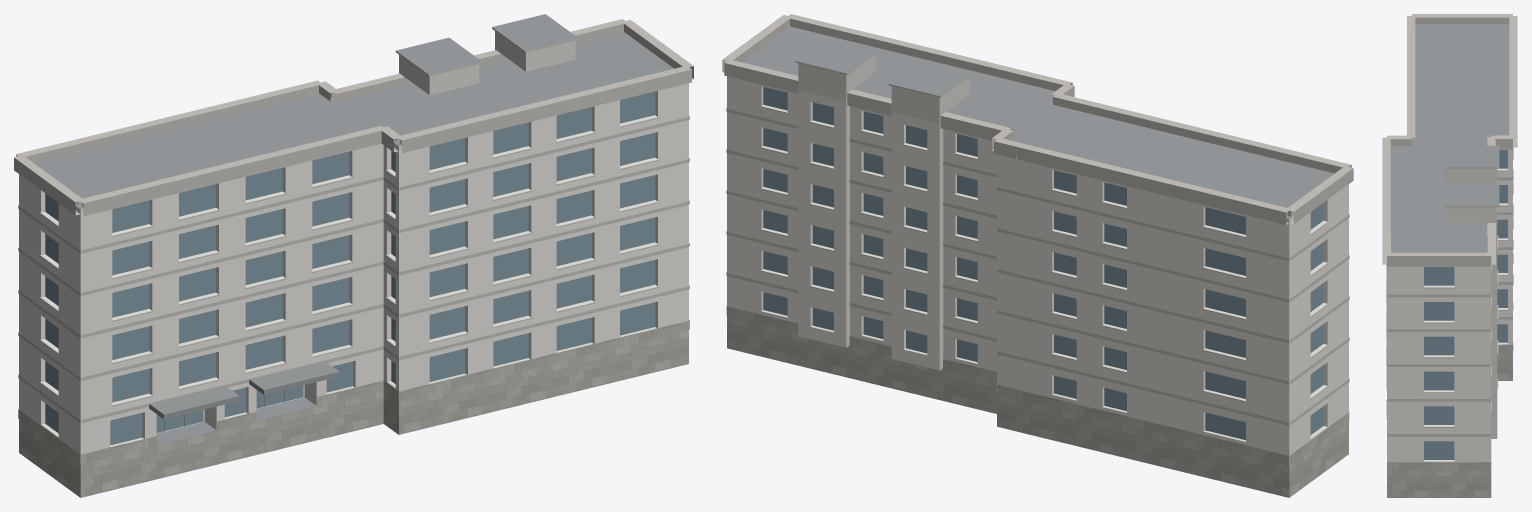
3 views of the same model, side by side, from view 1: azimuth 30°, elevation 25°; view 2: azimuth 150°, elevation 25°; view 3: azimuth 270°, elevation 25° (orthographic). The views are drawn at different scales.
Parts seen in each view (by area): view 1: yejiGwanW5_1__wall, yejiGwanW5_1__glass, yejiGwanW5_1__trim, yejiGwanW5_1__roof, yejiGwanW5_1__base, yejiGwanW5_1__canopy, yejiGwanW5_1__wall2; view 2: yejiGwanW5_1__wall, yejiGwanW5_1__trim, yejiGwanW5_1__base, yejiGwanW5_1__roof, yejiGwanW5_1__glass, yejiGwanW5_1__wall2; view 3: yejiGwanW5_1__roof, yejiGwanW5_1__wall, yejiGwanW5_1__trim, yejiGwanW5_1__glass, yejiGwanW5_1__base, yejiGwanW5_1__wall2.
Part boxes in pixels (x1,y1,x2,y2): yejiGwanW5_1__wall: (19,83,688,463); yejiGwanW5_1__glass: (45,91,655,445); yejiGwanW5_1__trim: (14,19,693,423); yejiGwanW5_1__roof: (34,14,673,444); yejiGwanW5_1__base: (18,320,689,497); yejiGwanW5_1__canopy: (149,361,339,419); yejiGwanW5_1__wall2: (399,31,575,95); yejiGwanW5_1__wall: (727,76,1348,464); yejiGwanW5_1__trim: (722,14,1353,425); yejiGwanW5_1__base: (726,306,1349,497); yejiGwanW5_1__roof: (741,26,1334,218); yejiGwanW5_1__glass: (763,87,1323,440); yejiGwanW5_1__wall2: (798,54,969,370); yejiGwanW5_1__roof: (1390,24,1509,344); yejiGwanW5_1__wall: (1387,149,1512,462); yejiGwanW5_1__trim: (1382,14,1517,436); yejiGwanW5_1__glass: (1424,150,1507,459); yejiGwanW5_1__base: (1387,303,1513,497); yejiGwanW5_1__wall2: (1446,168,1497,438).
Bounding box in the file's own units: 46.2 × 23.3 × 10.93.
9 materials, 1 textured.
